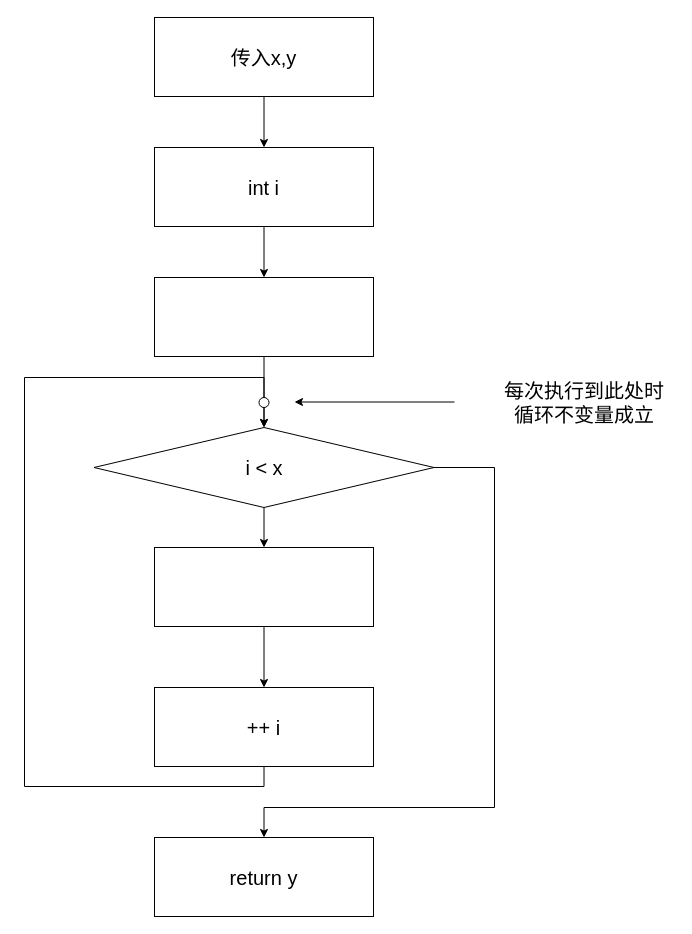
Some shapes in this 692 by 934 pixel diagram are drawn without their labels. Here are the shapes that lost their labels. From the top down, the box of each, then its label:
(154, 276, 374, 356): i = 0
(154, 546, 374, 626): y ++
